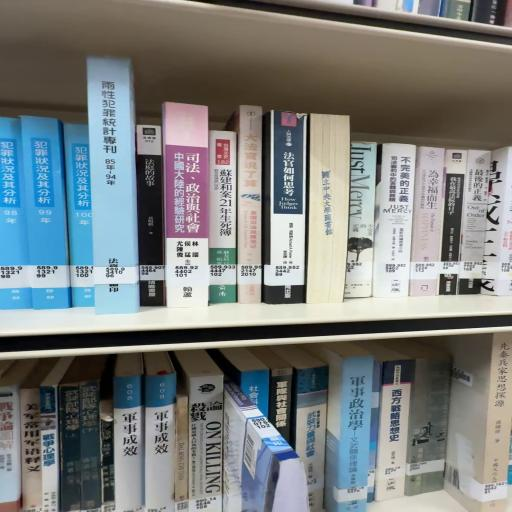backward: (307, 115, 350, 304)
book: (166, 106, 215, 313), (267, 114, 313, 311), (375, 146, 419, 302), (414, 149, 449, 300)
